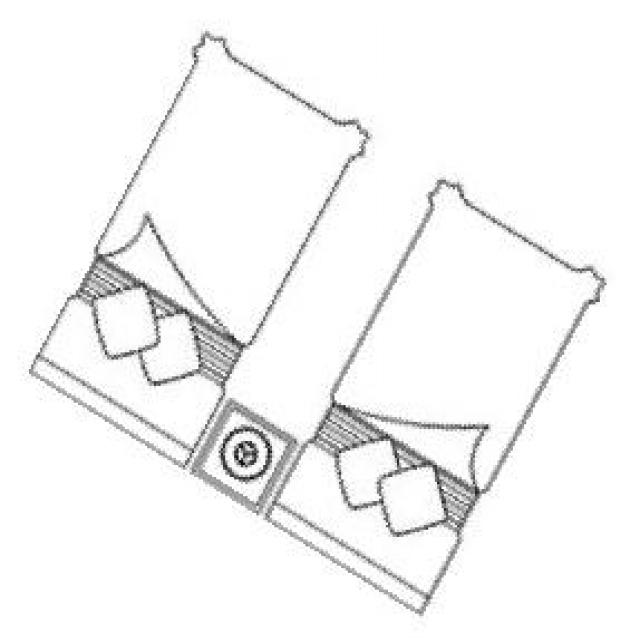bed: (27, 34, 602, 611)
